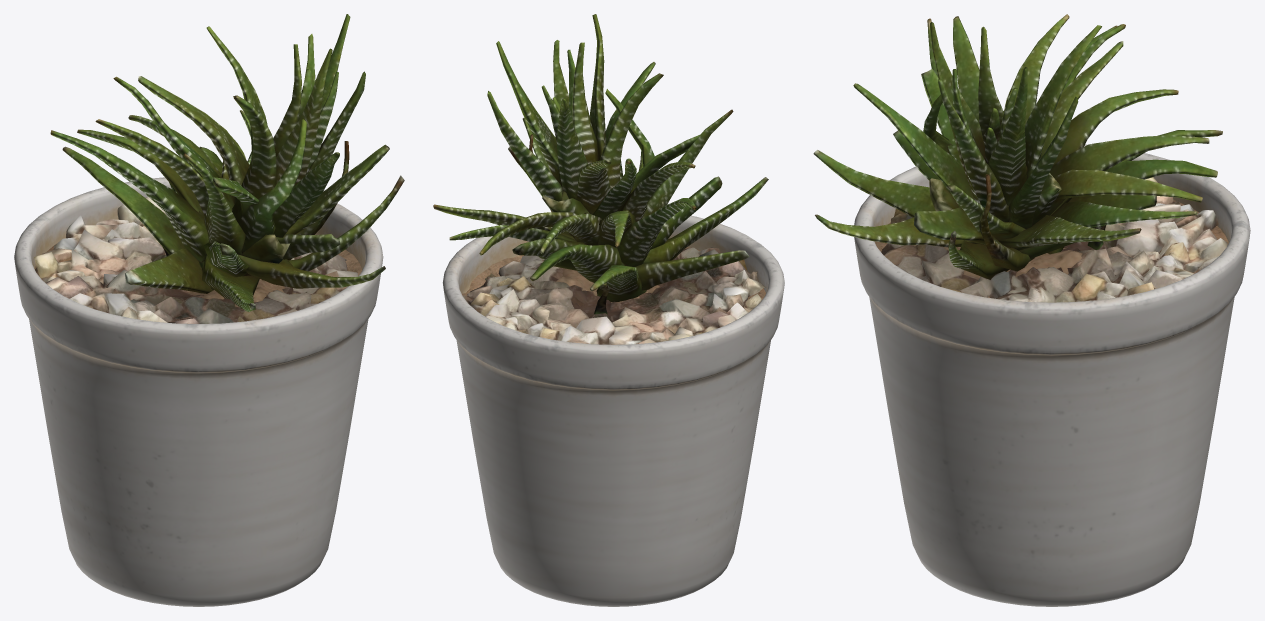
File: potted_plant_04.glb
3 views of the same model, side by side, from view 1: azimuth 30°, elevation 25°; view 2: azimuth 150°, elevation 25°; view 3: azimuth 270°, elevation 25° (orthographic). The views are drawn at different scales.
Parts seen in each view (by area): view 1: potted_plant_04_ground; view 2: potted_plant_04_ground; view 3: potted_plant_04_ground.
Part boxes in pixels (<box>): potted_plant_04_ground: <box>14,14,404,606</box>; potted_plant_04_ground: <box>433,14,784,606</box>; potted_plant_04_ground: <box>813,14,1250,606</box>.
Bounding box in the file's own units: 0.1679 × 0.2675 × 0.1847.
1 material, 1 textured.
